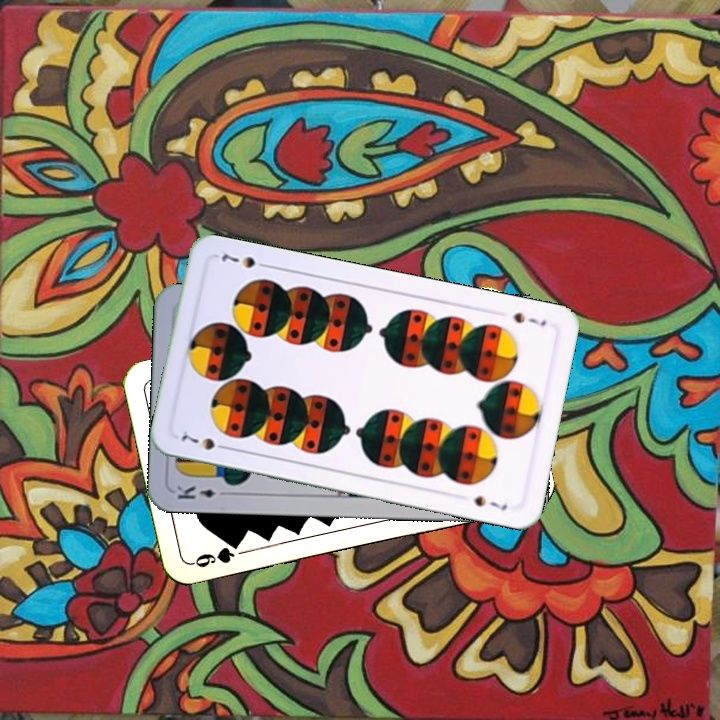EK: (173, 482, 232, 502)
G9: (187, 537, 244, 570)
S7: (177, 430, 232, 453), (509, 308, 549, 330)
